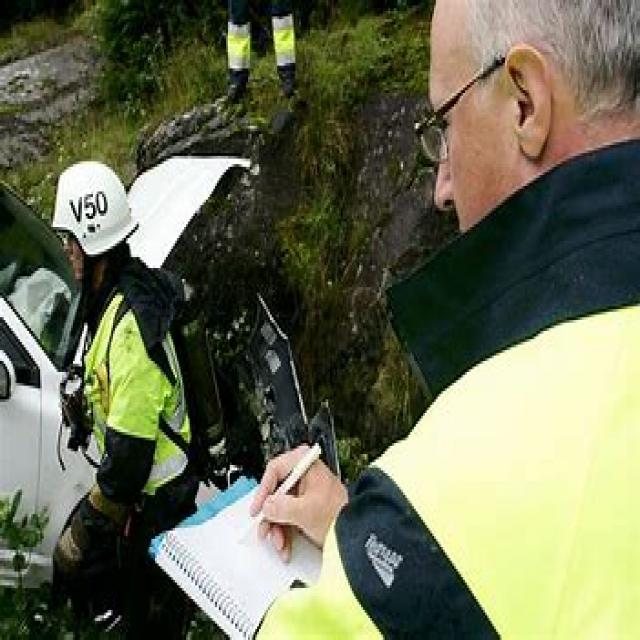Accident: (71, 145, 353, 554)
